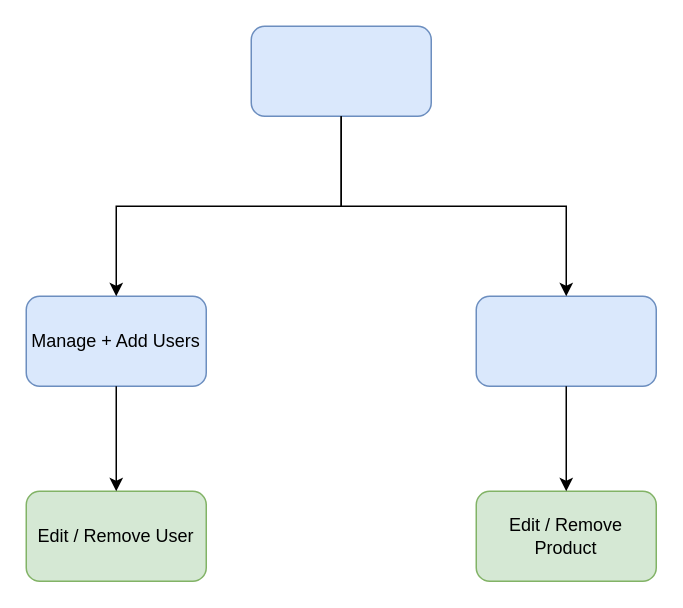
Image size: 683x608. Some labels were removed from this diagram. Each missing label, with the box of its shape:
Admin Login: (250, 25, 431, 116)
Manage + Add Products: (475, 295, 656, 386)
